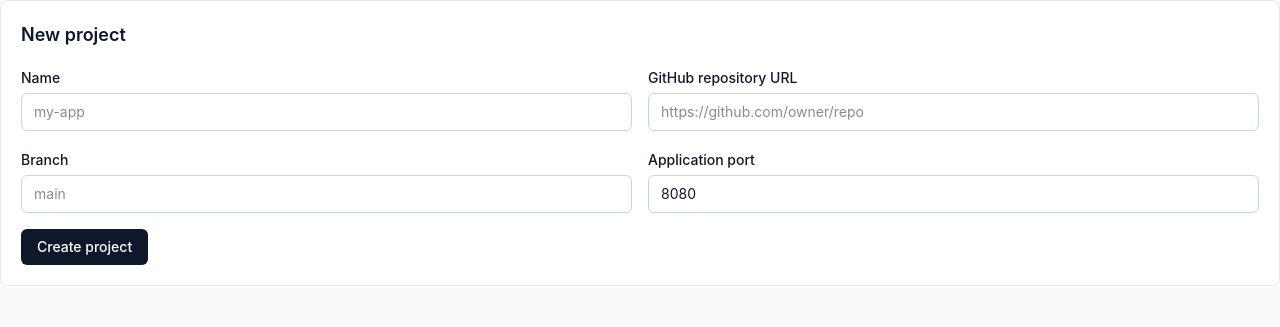
Test: ProjectForm › shows the field error returned by the API next to the offending field
Type "demo" into the field labelled "Name". click: {"x": 326, "y": 112}
box: [21,93,632,131]
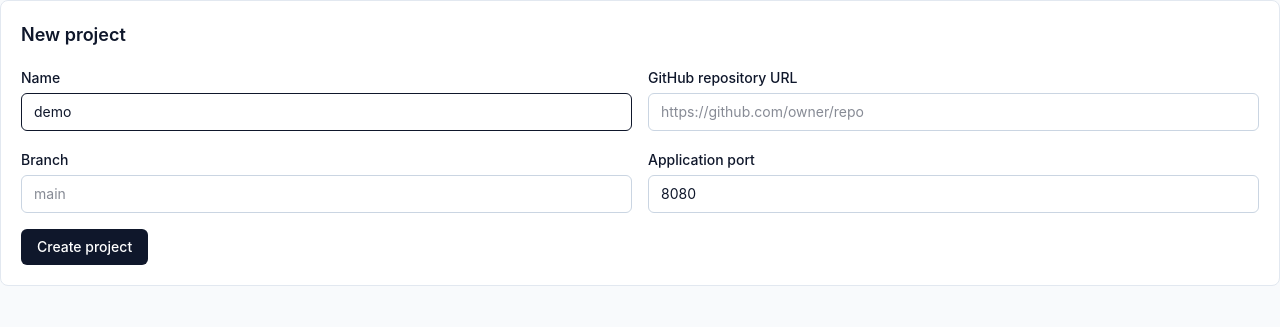
Type "https://github.com/acme/demo" into the field labelled "GitHub repository URL". click: {"x": 954, "y": 112}
box: [648,93,1259,131]
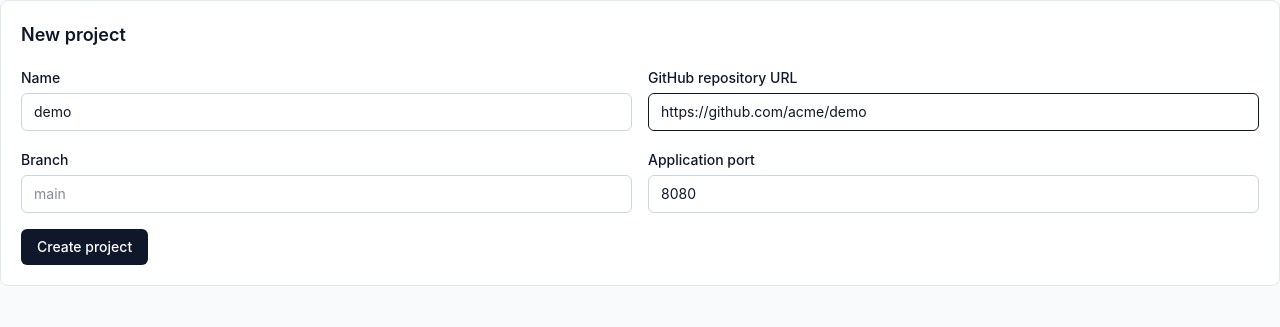
Click the button "Create project". click: {"x": 85, "y": 247}
box: [21,229,148,265]
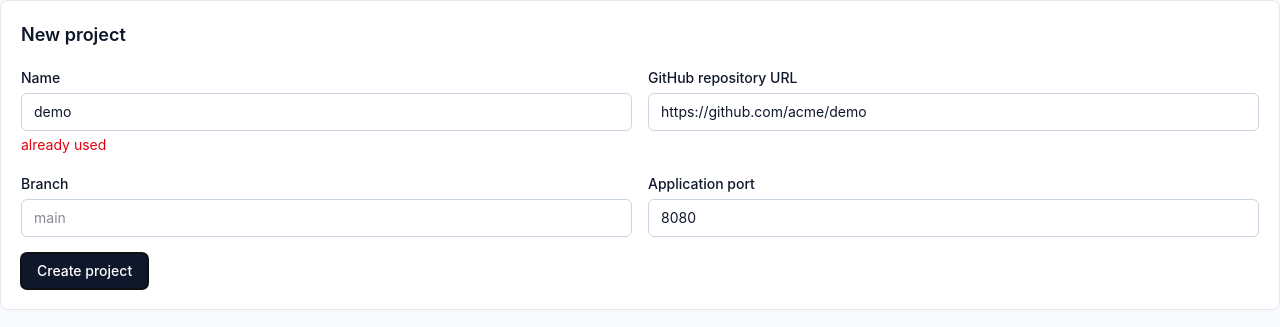
Result: the text "already used" is shown at [21,136,106,153]
